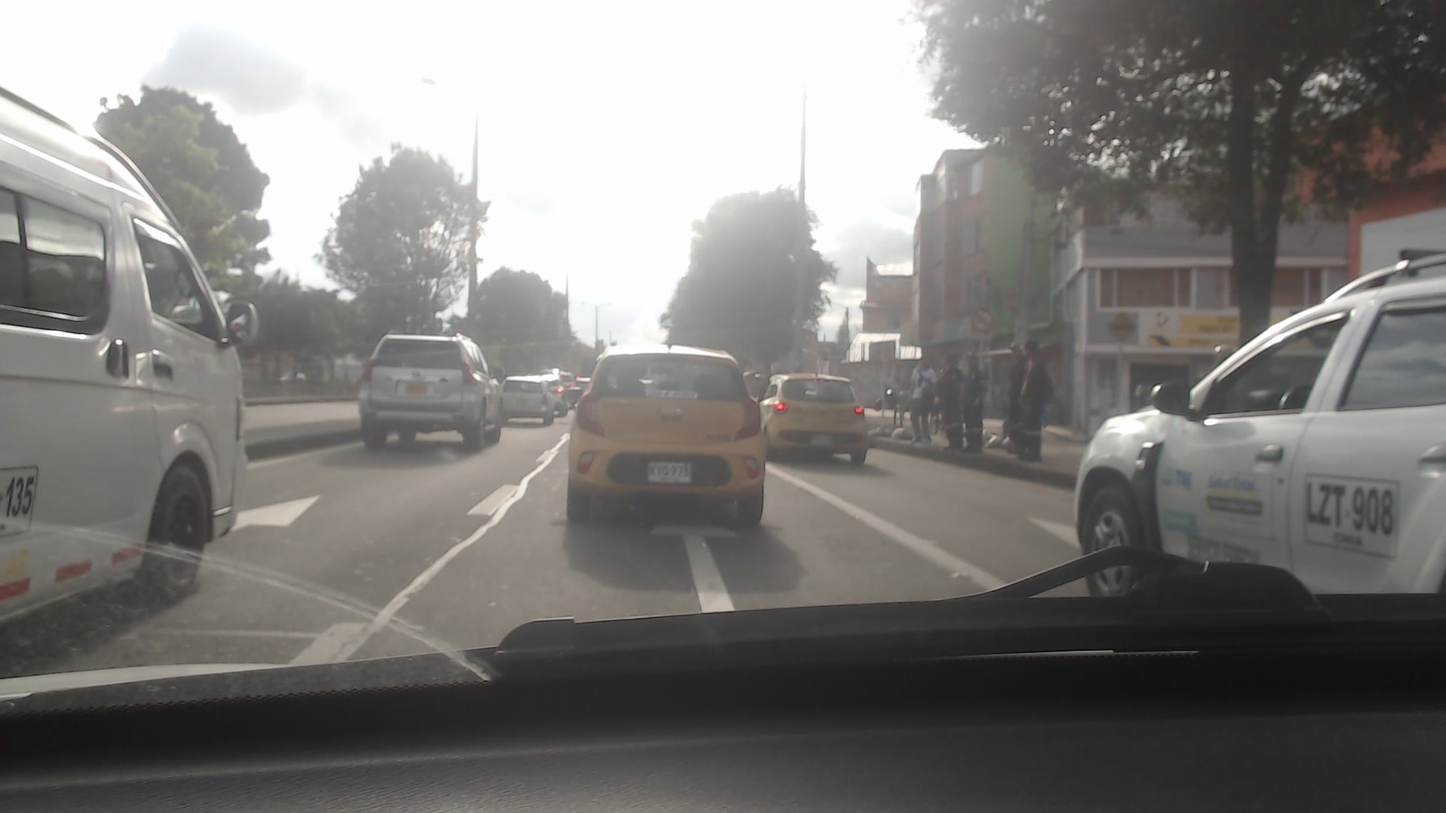bus: (0, 0, 259, 644)
car: (1066, 250, 1446, 621), (566, 344, 766, 530), (355, 323, 504, 453), (753, 368, 869, 474), (492, 375, 560, 426)
person: (1017, 335, 1060, 466), (933, 352, 968, 454), (1003, 340, 1030, 460), (959, 350, 988, 454), (909, 353, 937, 447)
